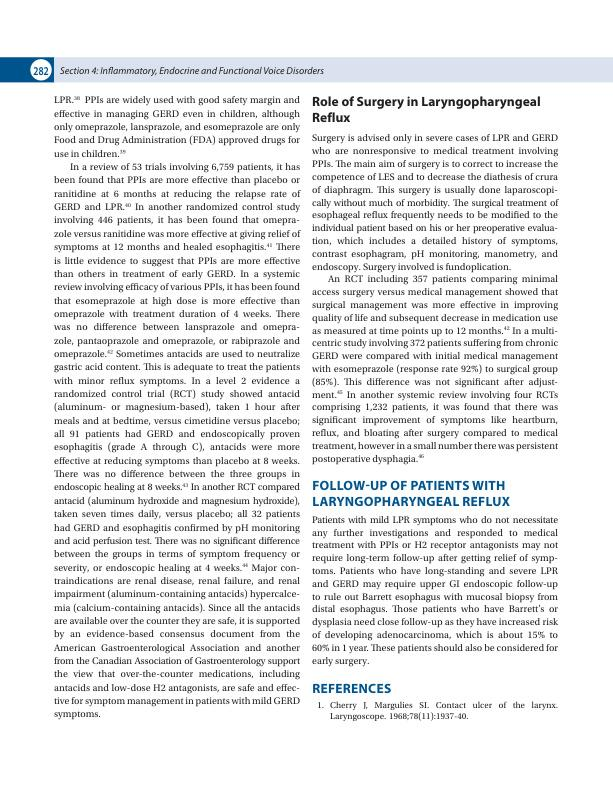header: (59, 66, 325, 77)
list: (317, 700, 558, 722)
section-heading: (311, 479, 511, 508), (312, 682, 392, 694)
sub-section-heading: (311, 94, 542, 124)
text: (53, 94, 301, 721), (311, 133, 559, 466), (311, 514, 559, 668)
